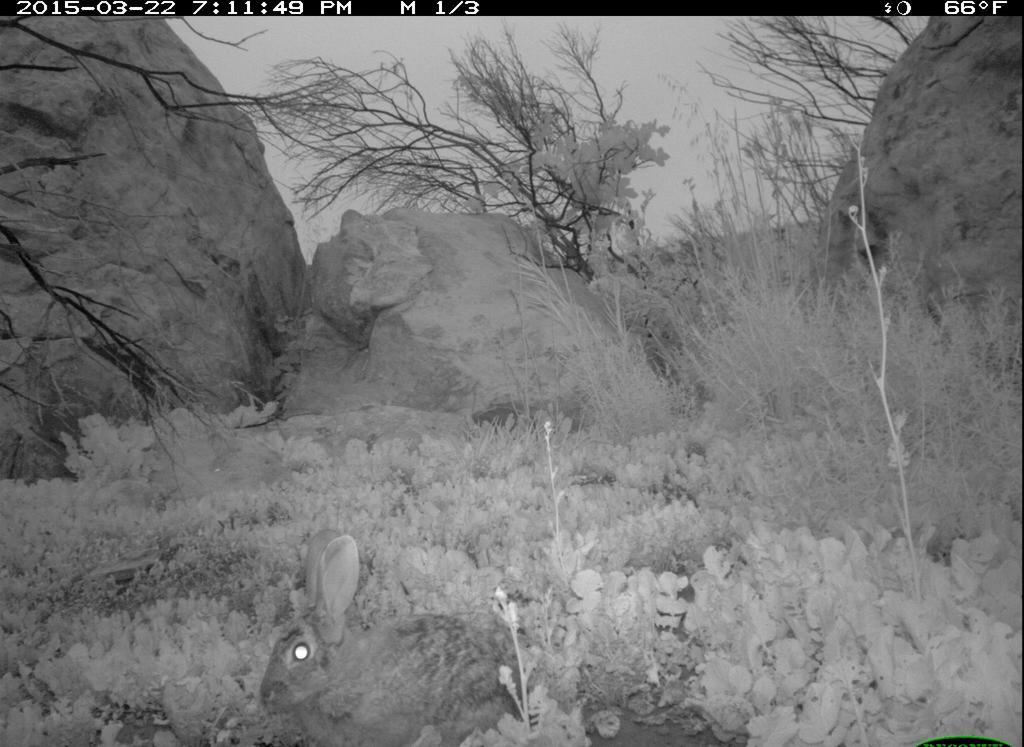rabbit: (257, 539, 606, 747)
